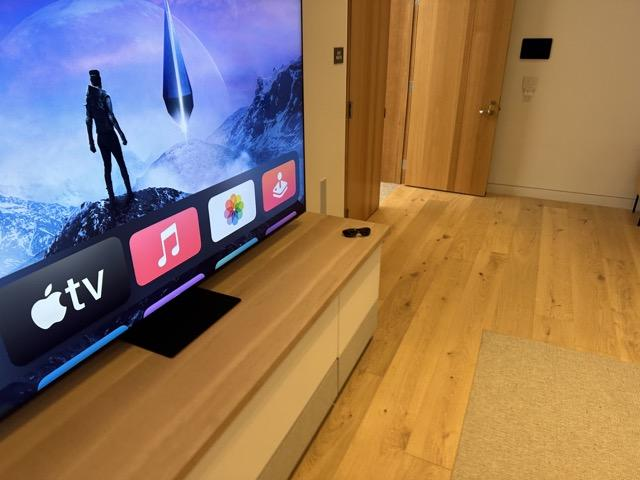Sunglasses: (341, 226, 371, 238)
